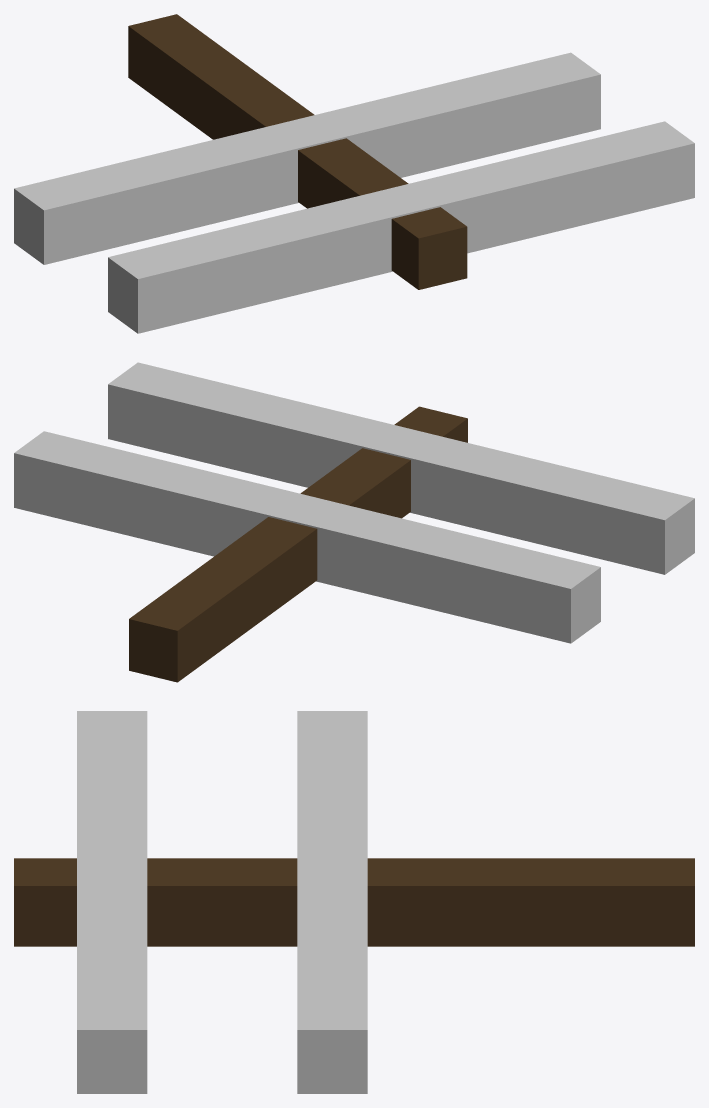
The model's file is fence.obj.
The picture shows the model from 3 angles, top to bottom: view 1: azimuth 30°, elevation 25°; view 2: azimuth 150°, elevation 25°; view 3: azimuth 270°, elevation 25°; orthographic projection. The views are drawn at different scales.
Parts seen in each view (by area): view 1: Cube, Cube.001_Cube.004, Cube.002; view 2: Cube.001_Cube.004, Cube, Cube.002; view 3: Cube.002, Cube.001_Cube.004, Cube.
Boxes of the visible parts, <box> form: Cube: <box>108,121,694,333</box>; Cube.001_Cube.004: <box>14,52,600,264</box>; Cube.002: <box>128,14,467,289</box>; Cube.001_Cube.004: <box>14,431,600,643</box>; Cube: <box>108,362,694,574</box>; Cube.002: <box>129,406,467,682</box>; Cube.002: <box>14,858,694,946</box>; Cube.001_Cube.004: <box>297,711,367,1093</box>; Cube: <box>77,711,147,1093</box>.
Bounding box in the file's own units: 0.507 × 0.0475 × 0.4577.
